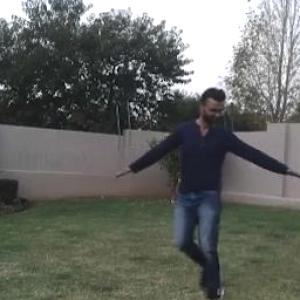land: (121, 96, 287, 280)
